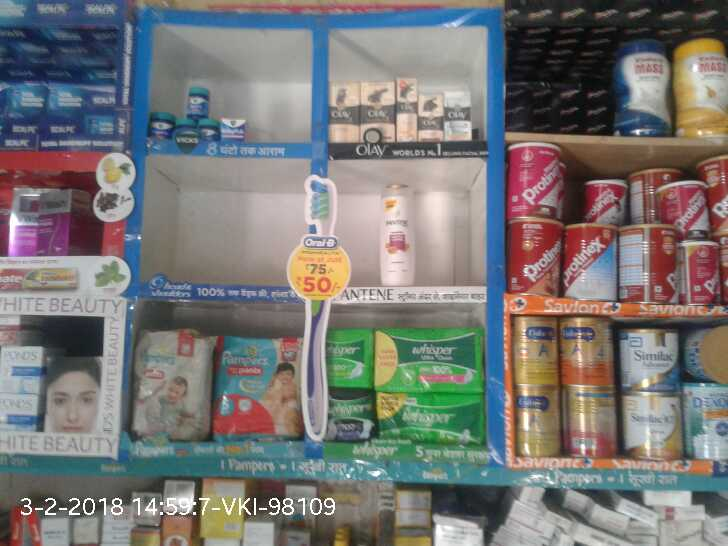vicks: (141, 82, 251, 148)
